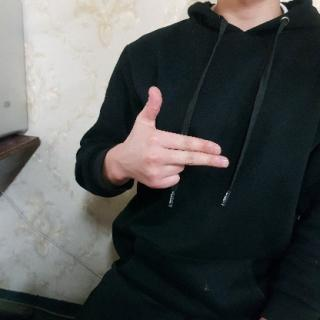GHAYN: (110, 84, 230, 191)
